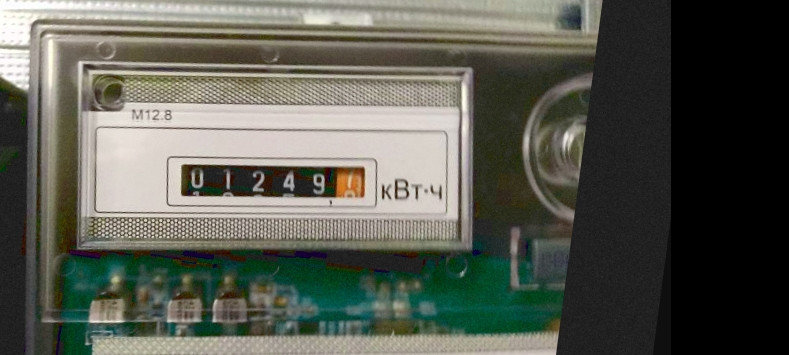0: (185, 161, 207, 189)
1: (217, 164, 235, 191)
2: (246, 166, 270, 194)
4: (279, 164, 300, 193)
7: (340, 164, 358, 190)
9: (308, 168, 329, 195)
screen: (154, 132, 394, 237)
